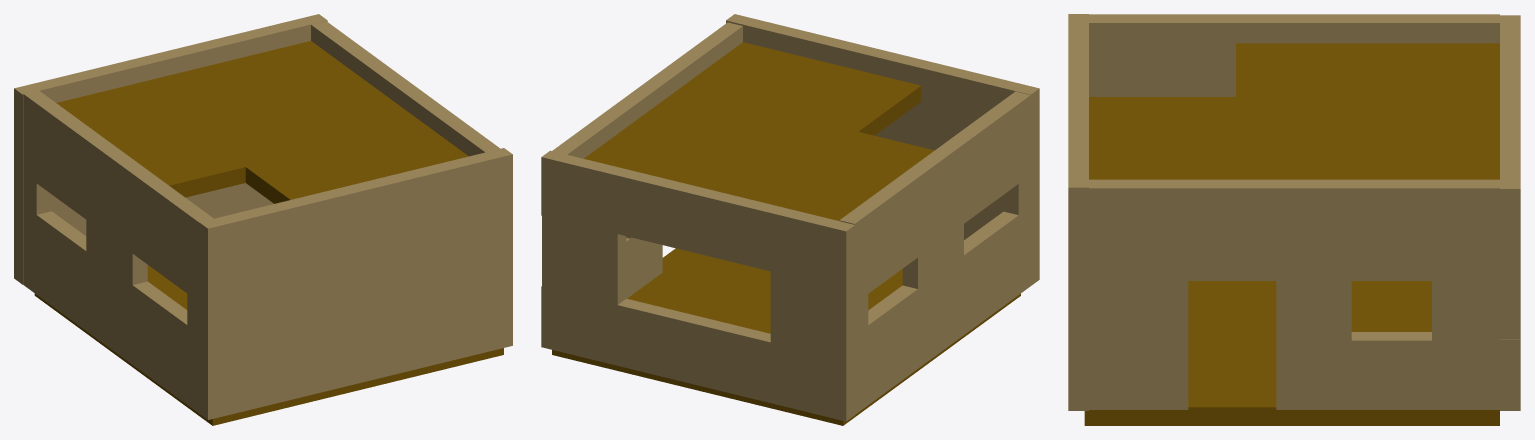
The model's file is Building.fbx.
The picture shows the model from 3 angles, left to right: view 1: azimuth 30°, elevation 25°; view 2: azimuth 150°, elevation 25°; view 3: azimuth 270°, elevation 25°; orthographic projection. The views are drawn at different scales.
Visible parts, largest first — view 1: Cube, Cube__12_, Cube__2_, Cube__1_, Cube__13_, Cube__4_, Cube__8_, Cube__14_, Cube__3_, Cube__17_, Cube__5_, Cube__15_ (+1 smaller); view 2: Cube__12_, Cube__4_, Cube__3_, Cube__2_, Cube__1_, Cube, Cube__13_, Cube__14_, Cube__5_, Cube__6_, Cube__8_, Cube__17_ (+2 smaller); view 3: Cube__8_, Cube__12_, Cube__14_, Cube__2_, Cube__7_, Cube__11_, Cube__13_, Cube, Cube__9_, Cube__4_, Cube__10_, Cube__6_ (+1 smaller).
Boxes of the visible parts, x1,y1,x2,y2 form: Cube: (199, 148, 512, 419); Cube__12_: (56, 41, 423, 197); Cube__2_: (23, 90, 213, 300); Cube__1_: (23, 205, 199, 413); Cube__13_: (245, 123, 468, 203); Cube__4_: (14, 14, 327, 152); Cube__8_: (311, 21, 500, 156); Cube__14_: (34, 265, 503, 425); Cube__3_: (14, 183, 273, 284); Cube__17_: (86, 214, 147, 284); Cube__5_: (14, 143, 77, 226); Cube__15_: (23, 168, 51, 216); Cube__12_: (584, 89, 934, 220); Cube__4_: (541, 150, 854, 289); Cube__3_: (541, 286, 854, 421); Cube__2_: (839, 91, 1030, 303); Cube__1_: (855, 211, 1030, 414); Cube: (726, 14, 1039, 285); Cube__13_: (679, 42, 921, 135); Cube__14_: (552, 248, 1020, 425); Cube__5_: (770, 269, 854, 363); Cube__6_: (542, 213, 626, 307); Cube__8_: (552, 22, 742, 158); Cube__17_: (902, 223, 963, 296); Cube__8_: (1089, 179, 1499, 280); Cube__12_: (1236, 43, 1499, 179); Cube__14_: (1084, 281, 1499, 425); Cube__2_: (1089, 14, 1499, 96); Cube__7_: (1276, 332, 1499, 409); Cube__11_: (1089, 247, 1188, 409); Cube__13_: (1089, 97, 1239, 179); Cube: (1068, 14, 1088, 410); Cube__9_: (1276, 252, 1351, 344); Cube__4_: (1500, 15, 1520, 257); Cube__10_: (1432, 252, 1499, 344); Cube__6_: (1500, 257, 1520, 339).
Bounding box in the file's own units: 1001 × 643 × 1100.
